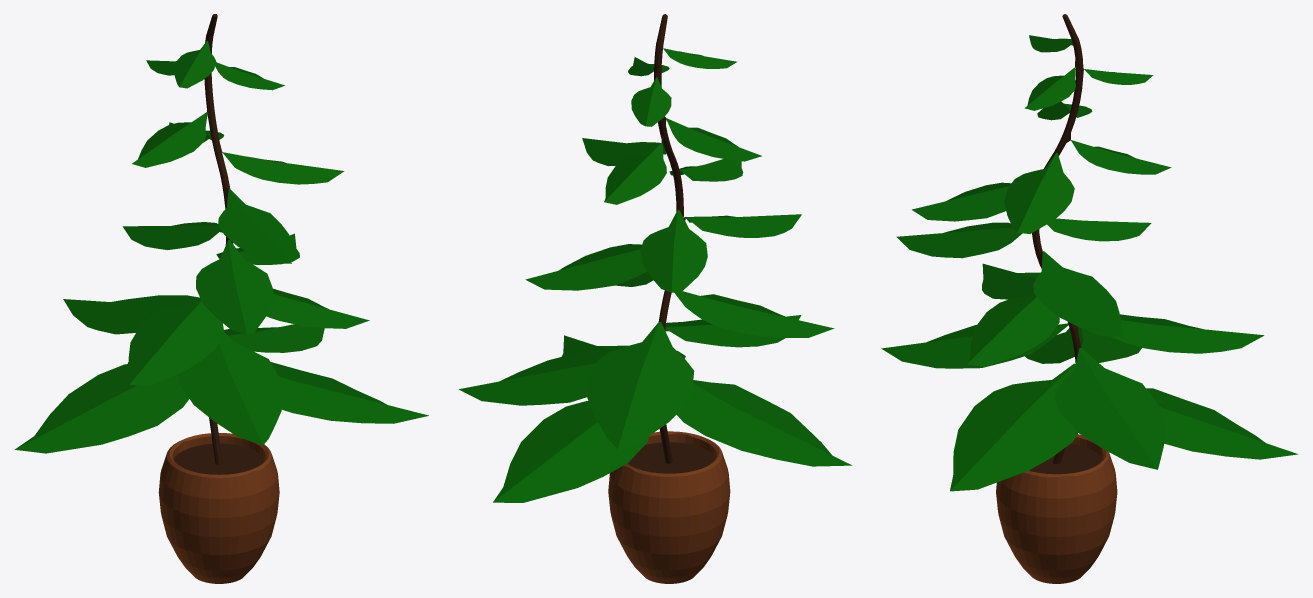
File: pot_leaves.glb
The picture shows the model from 3 angles, left to right: view 1: azimuth 30°, elevation 25°; view 2: azimuth 150°, elevation 25°; view 3: azimuth 270°, elevation 25°; orthographic projection.
Parts seen in each view (by area): view 1: Cylinder; view 2: Cylinder; view 3: Cylinder.
Boxes of the visible parts, x1,y1,x2,y2 form: Cylinder: [14, 14, 428, 583]; Cylinder: [459, 14, 852, 583]; Cylinder: [881, 14, 1297, 583].
Bounding box in the file's own units: 3.78 × 5.7 × 3.87.
3 materials, 3 textured.
